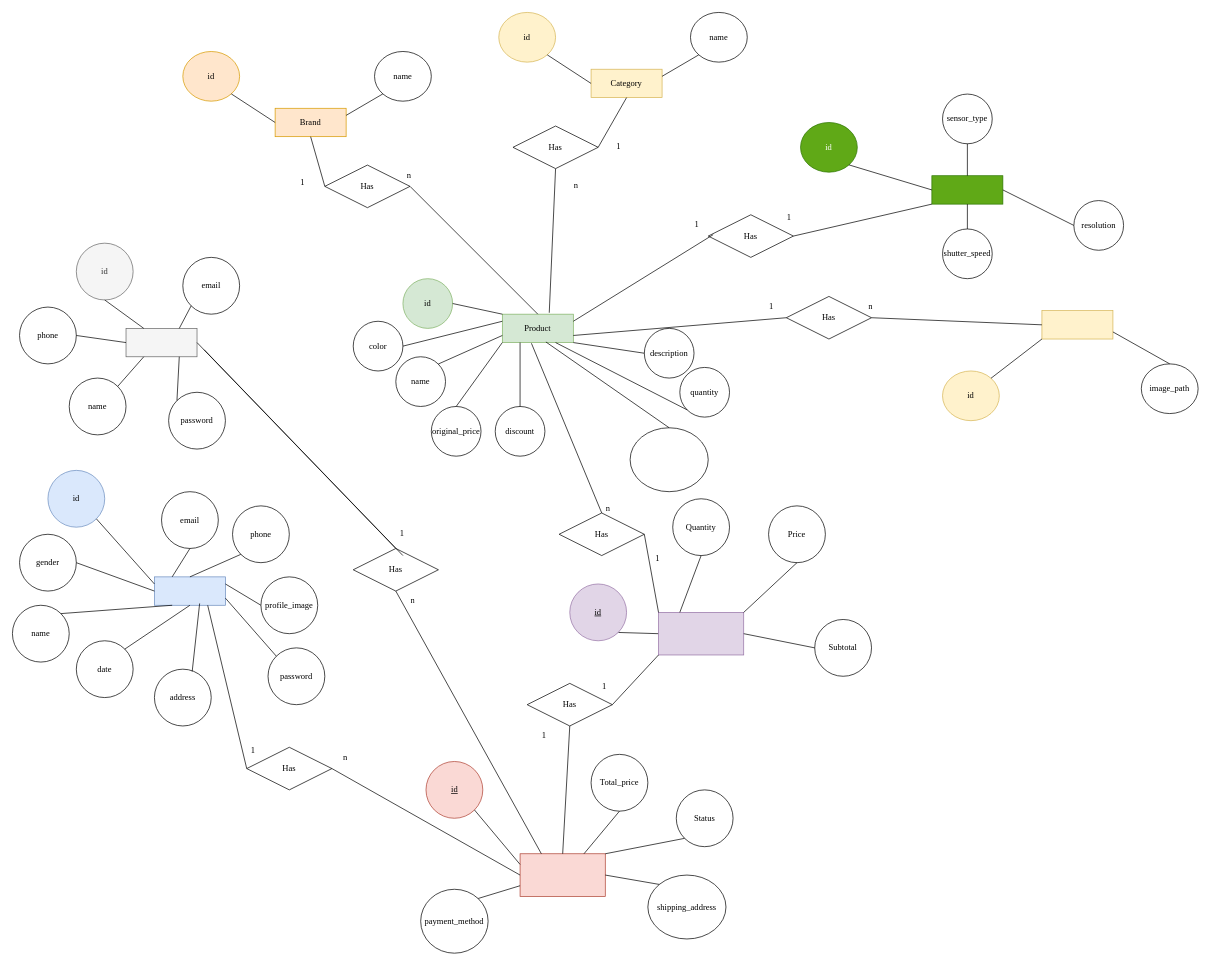
The diagram is 1211 pixels wide and 966 high, and some of its shapes have lost their labels. The centre of each missing label's shape, as x and y in pixels:
Admin: point (161, 342)
Customer: point (189, 590)
Order: point (562, 874)
Order_detail: point (701, 633)
product_detail: point (967, 189)
product_image: point (1077, 324)
promotional_price: point (668, 459)
